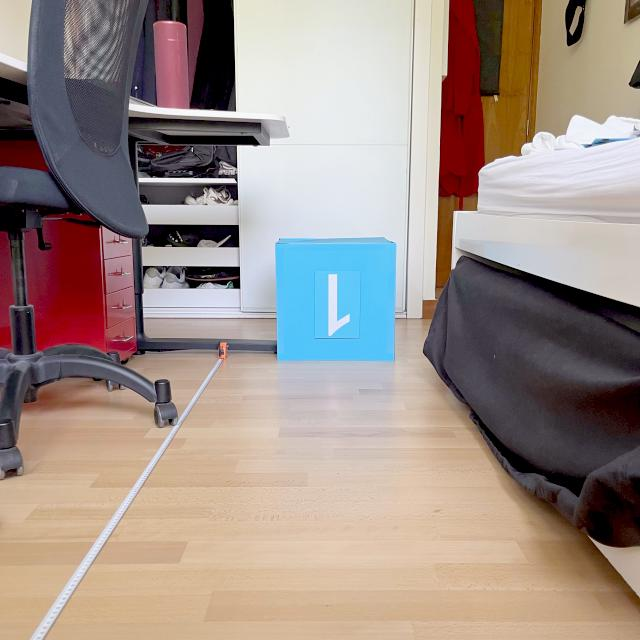box: (271, 232, 399, 364)
